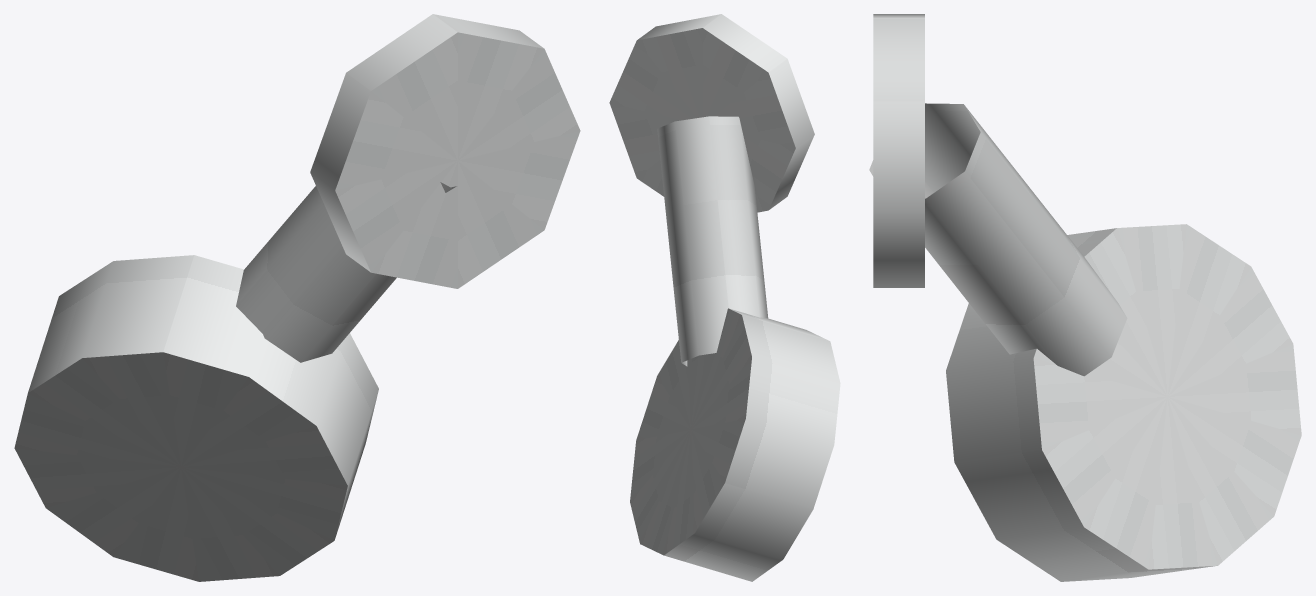
The model's file is nycsignalarm_stub_138.obj.
The picture shows the model from 3 angles, left to right: view 1: azimuth 30°, elevation 25°; view 2: azimuth 150°, elevation 25°; view 3: azimuth 270°, elevation 25°; orthographic projection. The views are drawn at different scales.
Visible parts, largest first — view 1: nycsignalarm_stub_138; view 2: nycsignalarm_stub_138; view 3: nycsignalarm_stub_138.
Boxes of the visible parts, box(x1,y1,x2,y2) form: nycsignalarm_stub_138: box(14, 14, 580, 581); nycsignalarm_stub_138: box(609, 14, 840, 581); nycsignalarm_stub_138: box(869, 14, 1301, 581).
Bounding box in the file's own units: 0.5874 × 0.8292 × 0.519.
